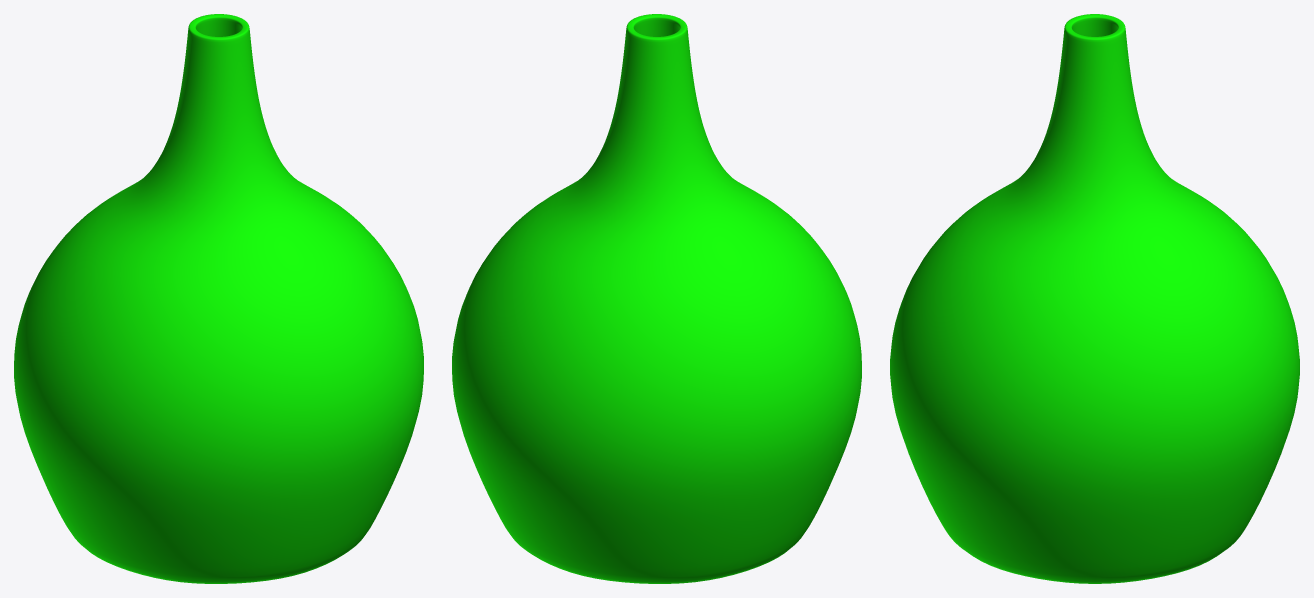
Rendered from SM_Vase02.FBX.
3 views of the same model, side by side, from view 1: azimuth 30°, elevation 25°; view 2: azimuth 150°, elevation 25°; view 3: azimuth 270°, elevation 25° (orthographic).
Parts seen in each view (by area): view 1: Glass 3; view 2: Glass 3; view 3: Glass 3.
Part boxes in pixels (<box>): Glass 3: <box>14,14,423,583</box>; Glass 3: <box>452,14,861,583</box>; Glass 3: <box>890,14,1299,583</box>.
Bounding box in the file's own units: 37.32 × 50.08 × 37.32.
